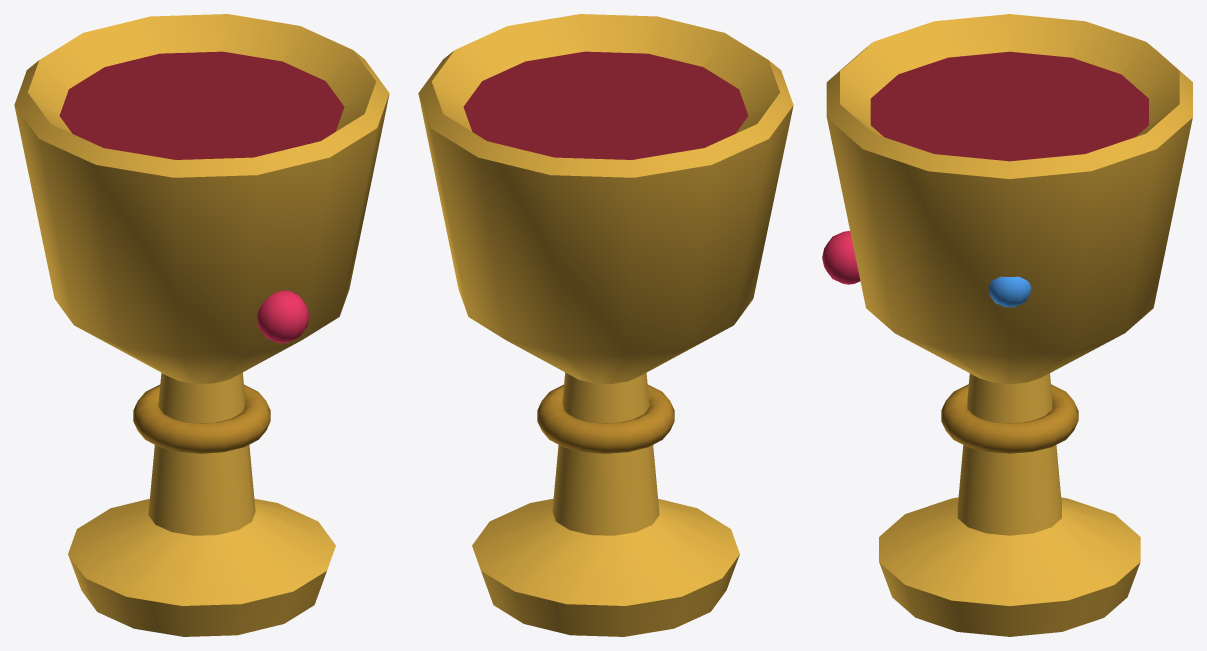
Rendered from goblet.glb.
The picture shows the model from 3 angles, left to right: view 1: azimuth 30°, elevation 25°; view 2: azimuth 150°, elevation 25°; view 3: azimuth 270°, elevation 25°; orthographic projection.
Parts seen in each view (by area): view 1: root; view 2: root; view 3: root.
Boxes of the visible parts, left/top/right/bottom form: root: left=14, top=14, right=389, bottom=636; root: left=418, top=14, right=793, bottom=636; root: left=822, top=14, right=1192, bottom=636.
Size of the model in its own units: 0.28 by 0.41 by 0.2765.
